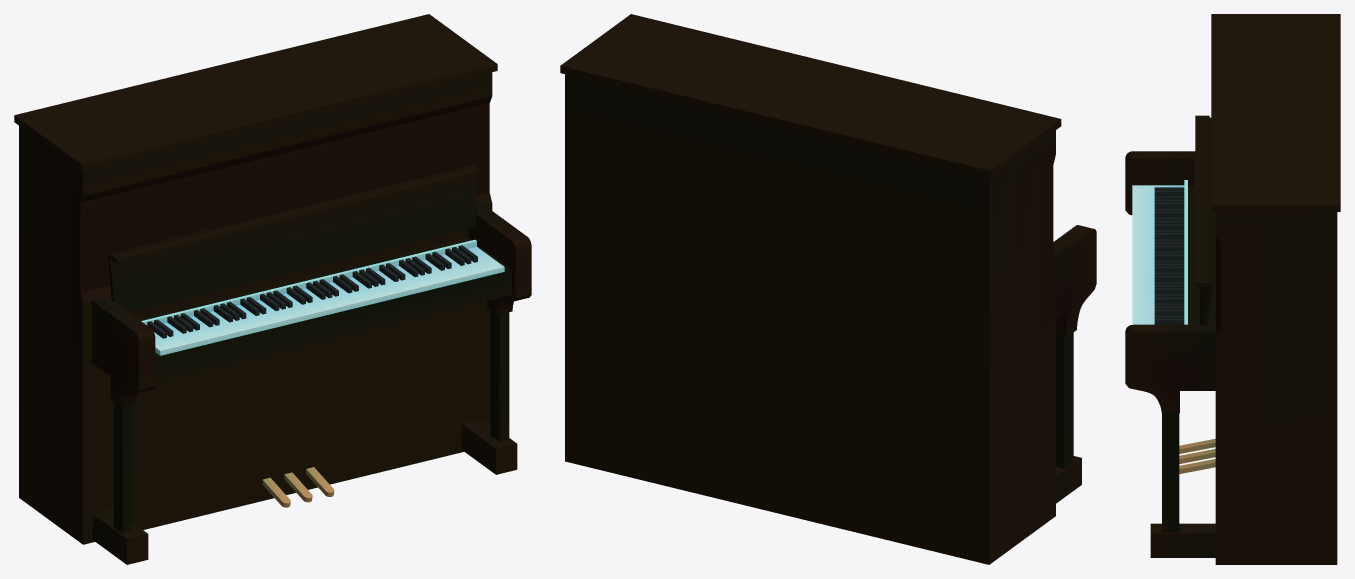
3 renders of one model, left to right at view 1: azimuth 30°, elevation 25°; view 2: azimuth 150°, elevation 25°; view 3: azimuth 270°, elevation 25°, orthographic. The views are drawn at different scales.
Parts seen in each view (by area): view 1: cabinet, top_lid, fallboard, keyboard_rail, ivory, end_cheek, end_cheek.001, front_support.001, front_support, block_foot.001, block_foot; view 2: cabinet, top_lid, end_cheek, front_support, block_foot; view 3: cabinet, top_lid, end_cheek.001, ivory, fallboard, end_cheek, front_support.001, block_foot.001, keyboard_rail, pedal.002, pedal.003, pedal.001.
Boxes of the visible parts, x1,y1,x2,y2 form: cabinet: [19, 72, 492, 544]; top_lid: [14, 14, 497, 171]; fallboard: [107, 165, 480, 311]; keyboard_rail: [137, 238, 511, 381]; ivory: [141, 239, 504, 355]; end_cheek: [91, 296, 155, 406]; end_cheek.001: [468, 204, 531, 315]; front_support.001: [490, 311, 509, 442]; front_support: [114, 403, 132, 533]; block_foot.001: [461, 418, 517, 474]; block_foot: [92, 508, 148, 564]; cabinet: [565, 74, 1055, 564]; top_lid: [560, 14, 1061, 177]; end_cheek: [1053, 225, 1096, 337]; front_support: [1056, 332, 1073, 468]; block_foot: [1056, 456, 1081, 503]; cabinet: [1215, 212, 1337, 564]; top_lid: [1211, 14, 1340, 211]; end_cheek.001: [1125, 324, 1215, 413]; ivory: [1132, 180, 1187, 324]; fallboard: [1195, 115, 1213, 325]; end_cheek: [1125, 151, 1195, 215]; front_support.001: [1162, 413, 1179, 532]; block_foot.001: [1150, 523, 1215, 557]; keyboard_rail: [1188, 186, 1215, 324]; pedal.002: [1179, 449, 1215, 463]; pedal.003: [1179, 459, 1215, 474]; pedal.001: [1179, 438, 1215, 453].
Bounding box in the file's own units: 1.5 × 1.32 × 0.7145.
